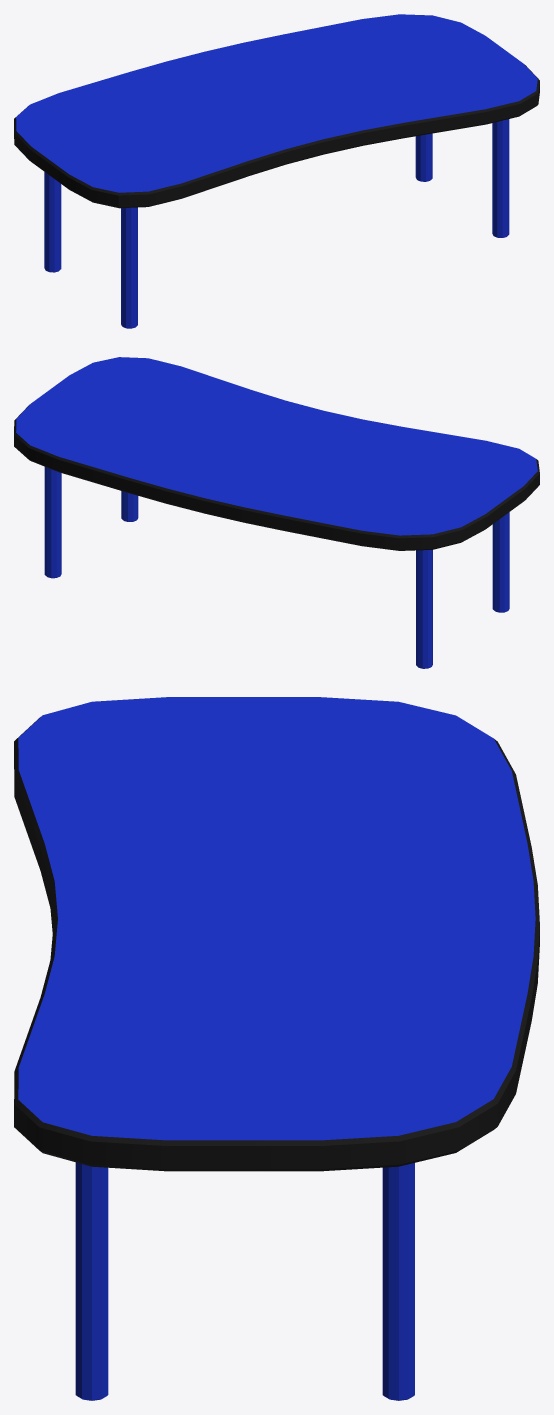
The model's file is Round_Table.fbx.
The picture shows the model from 3 angles, top to bottom: view 1: azimuth 30°, elevation 25°; view 2: azimuth 150°, elevation 25°; view 3: azimuth 270°, elevation 25°; orthographic projection. The views are drawn at different scales.
Visible parts, largest first — view 1: Round_Table; view 2: Round_Table; view 3: Round_Table.
Boxes of the visible parts, x1,y1,x2,y2 form: Round_Table: (14,14,539,328); Round_Table: (14,357,539,668); Round_Table: (14,697,539,1400).
Bounding box in the file's own units: 62 × 19.06 × 30.82.
